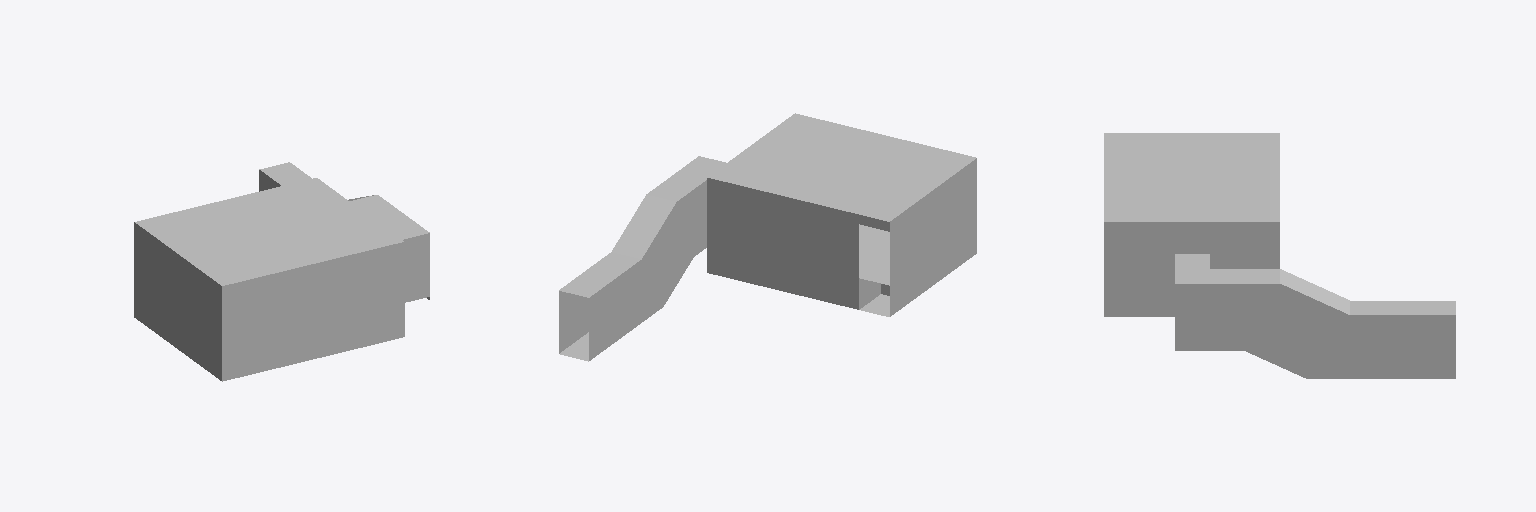
File: floor_bighall.obj
3 renders of one model, left to right at view 1: azimuth 30°, elevation 25°; view 2: azimuth 150°, elevation 25°; view 3: azimuth 270°, elevation 25°, orthographic.
Bounding box in the file's own units: 800 × 400 × 1000.